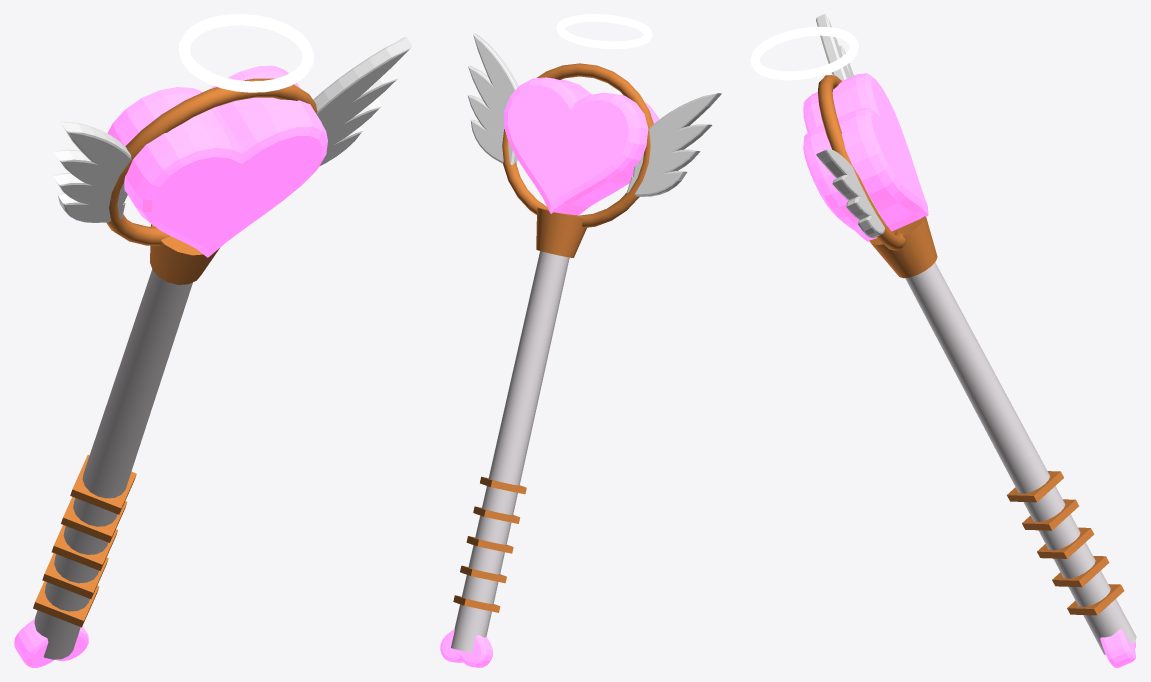
Rendered from hand_eqmo3.glb.
The picture shows the model from 3 angles, left to right: view 1: azimuth 30°, elevation 25°; view 2: azimuth 150°, elevation 25°; view 3: azimuth 270°, elevation 25°; orthographic projection. The views are drawn at different scales.
Bounding box in the file's own units: 2 × 4.22 × 2.39.
